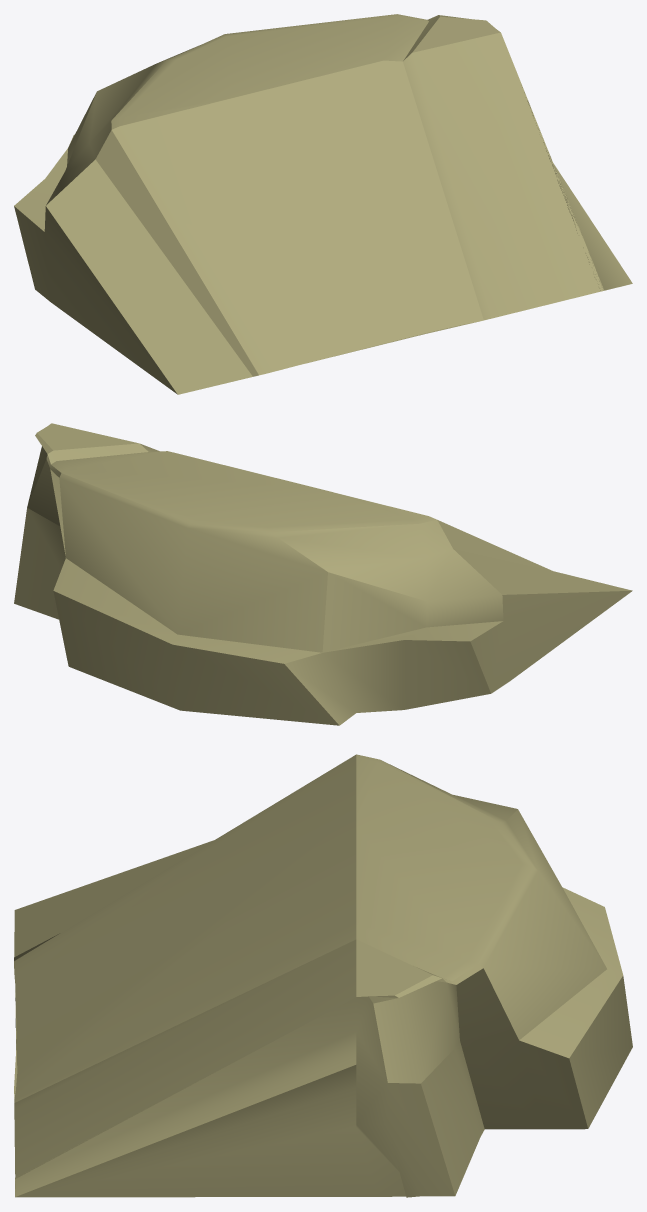
Rendered from RampRock.glb.
The picture shows the model from 3 angles, top to bottom: view 1: azimuth 30°, elevation 25°; view 2: azimuth 150°, elevation 25°; view 3: azimuth 270°, elevation 25°; orthographic projection. The views are drawn at different scales.
Parts seen in each view (by area): view 1: Cube; view 2: Cube; view 3: Cube.
Boxes of the visible parts, x1,y1,x2,y2 form: Cube: (14,14,632,394); Cube: (14,423,632,725); Cube: (14,754,632,1197).
Size of the model in its own units: 2.21 by 0.7212 by 2.
1 material, 1 textured.
